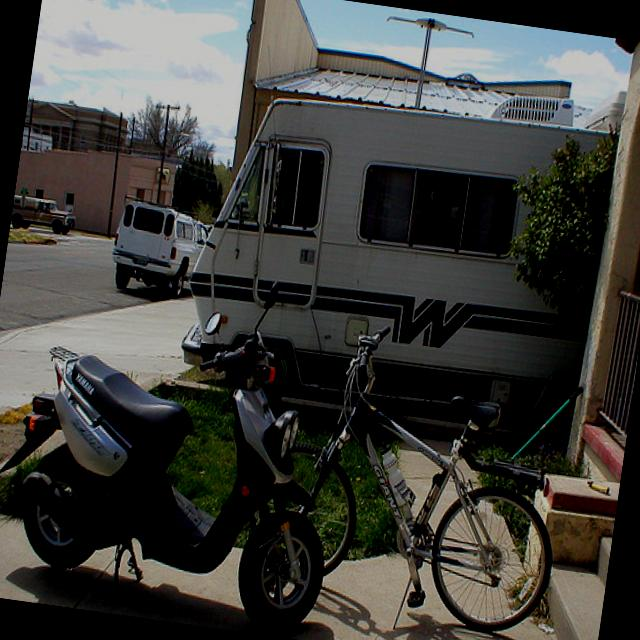Vehicle: (178, 76, 618, 440), (0, 243, 366, 640), (106, 198, 211, 303), (10, 192, 77, 236)
